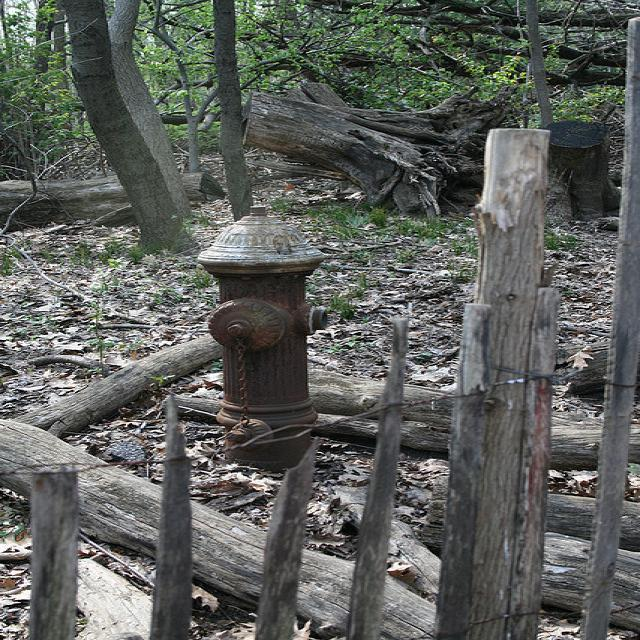fire_hydrant: (195, 205, 333, 476)
